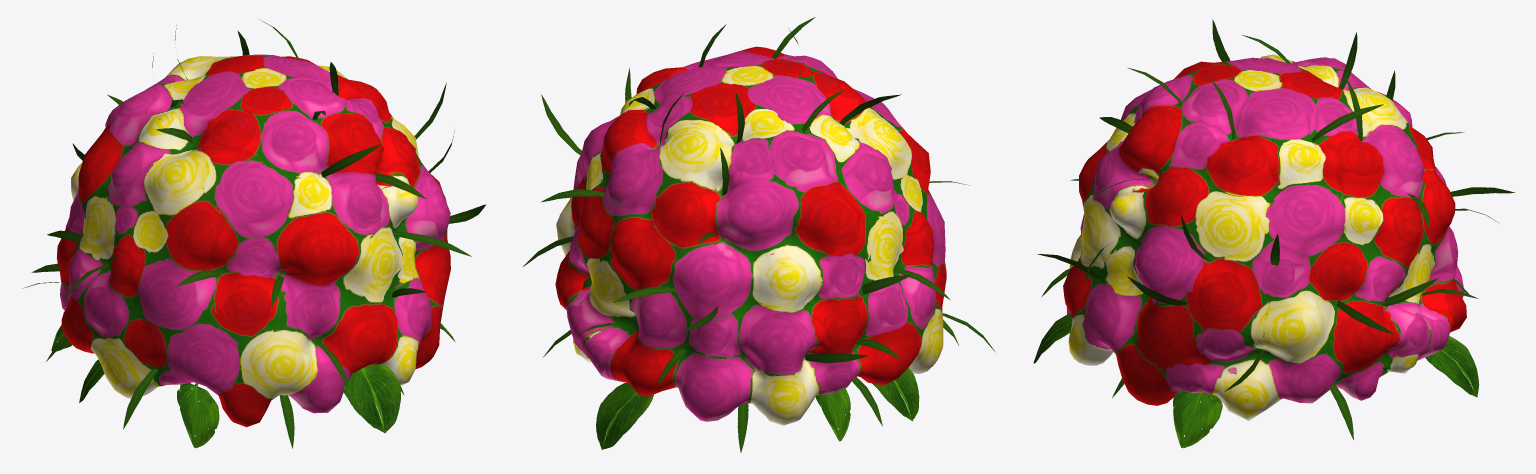
Rendered from DecorFlowerRoses02_1.FBX.
3 views of the same model, side by side, from view 1: azimuth 30°, elevation 25°; view 2: azimuth 150°, elevation 25°; view 3: azimuth 270°, elevation 25° (orthographic).
Visible parts, largest first — view 1: DecorFlowerRoses02_1; view 2: DecorFlowerRoses02_1; view 3: DecorFlowerRoses02_1.
Part boxes in pixels (x1,y1,x2,y2): DecorFlowerRoses02_1: [23, 19, 485, 448]; DecorFlowerRoses02_1: [523, 17, 994, 452]; DecorFlowerRoses02_1: [1033, 19, 1514, 448].
Size of what is drawn, in the model's own units: 0.616 by 0.5013 by 0.652.
